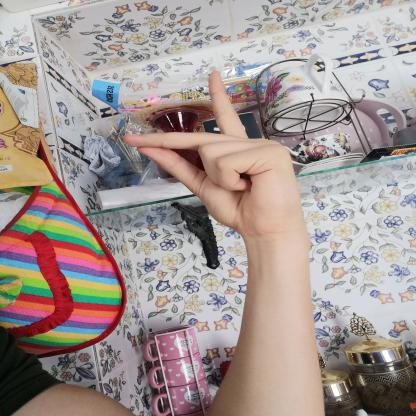TAA: (114, 63, 314, 244)
